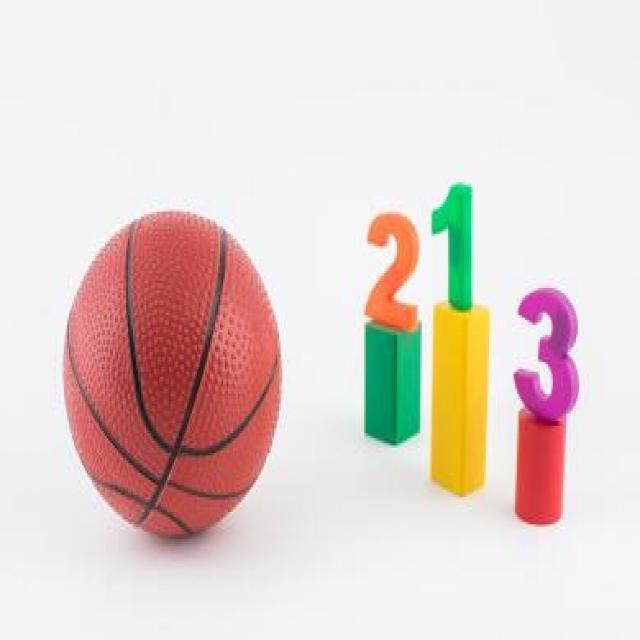rim: (60, 209, 282, 546)
